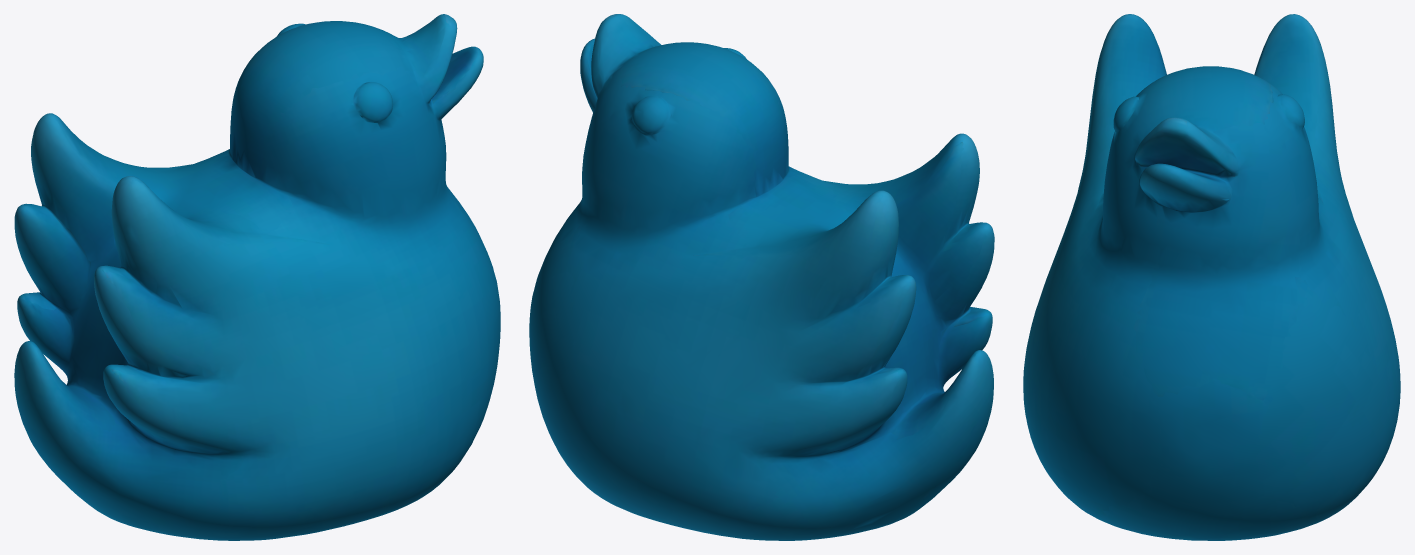
File: item-bird.glb
3 renders of one model, left to right at view 1: azimuth 30°, elevation 25°; view 2: azimuth 150°, elevation 25°; view 3: azimuth 270°, elevation 25°, orthographic. The views are drawn at different scales.
Visible parts, largest first — view 1: material; view 2: material; view 3: material.
Boxes of the visible parts, bbox=[...] form: material: bbox=[14, 14, 500, 540]; material: bbox=[529, 14, 994, 540]; material: bbox=[1023, 14, 1400, 540].
Size of the model in its own units: 0.9866 by 0.8917 by 0.7145.
1 material, 1 textured.
